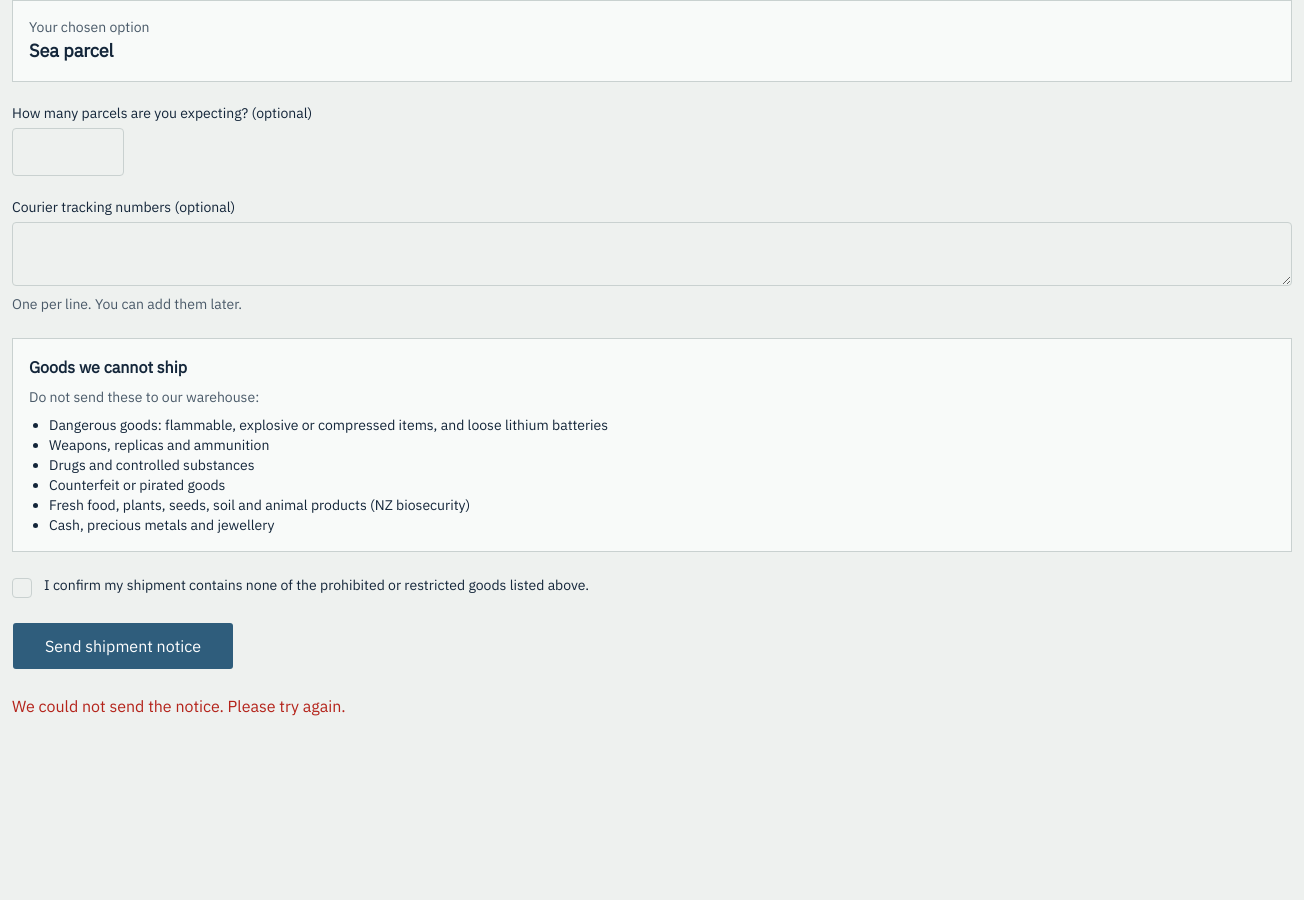
Test: PreNoticeForm › refuses a tracking number that is too short
expect the text "Your chosen option" is shown: met, box [29,17,150,37]
Type "SF1" into the text box labelled "Courier tracking numbers (optional)".
click(652, 254); type("SF1")  # box [12,222,1292,286]
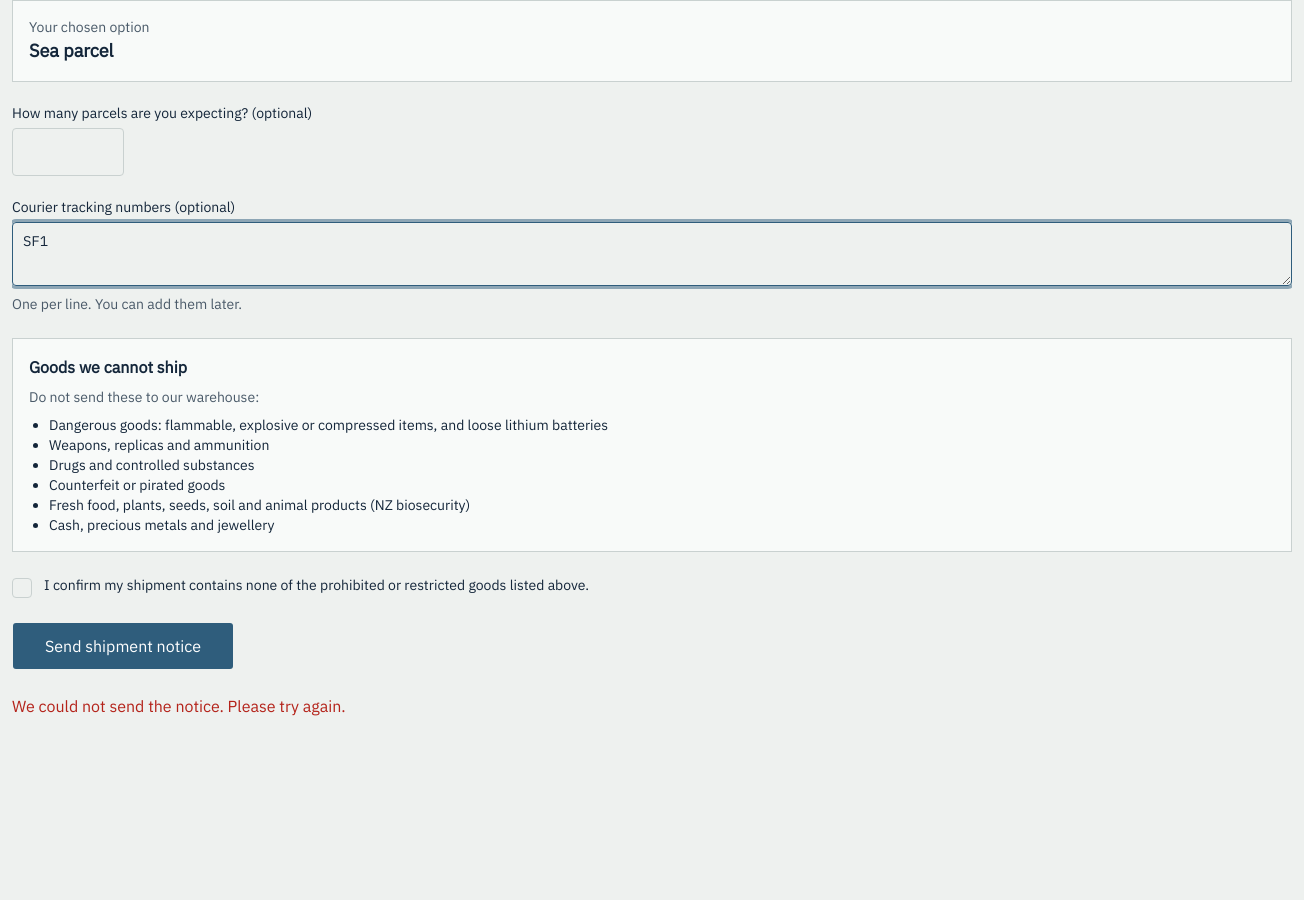
Click the checkbox named "I confirm my shipment contains none".
click(22, 588)  # box [12,578,32,598]
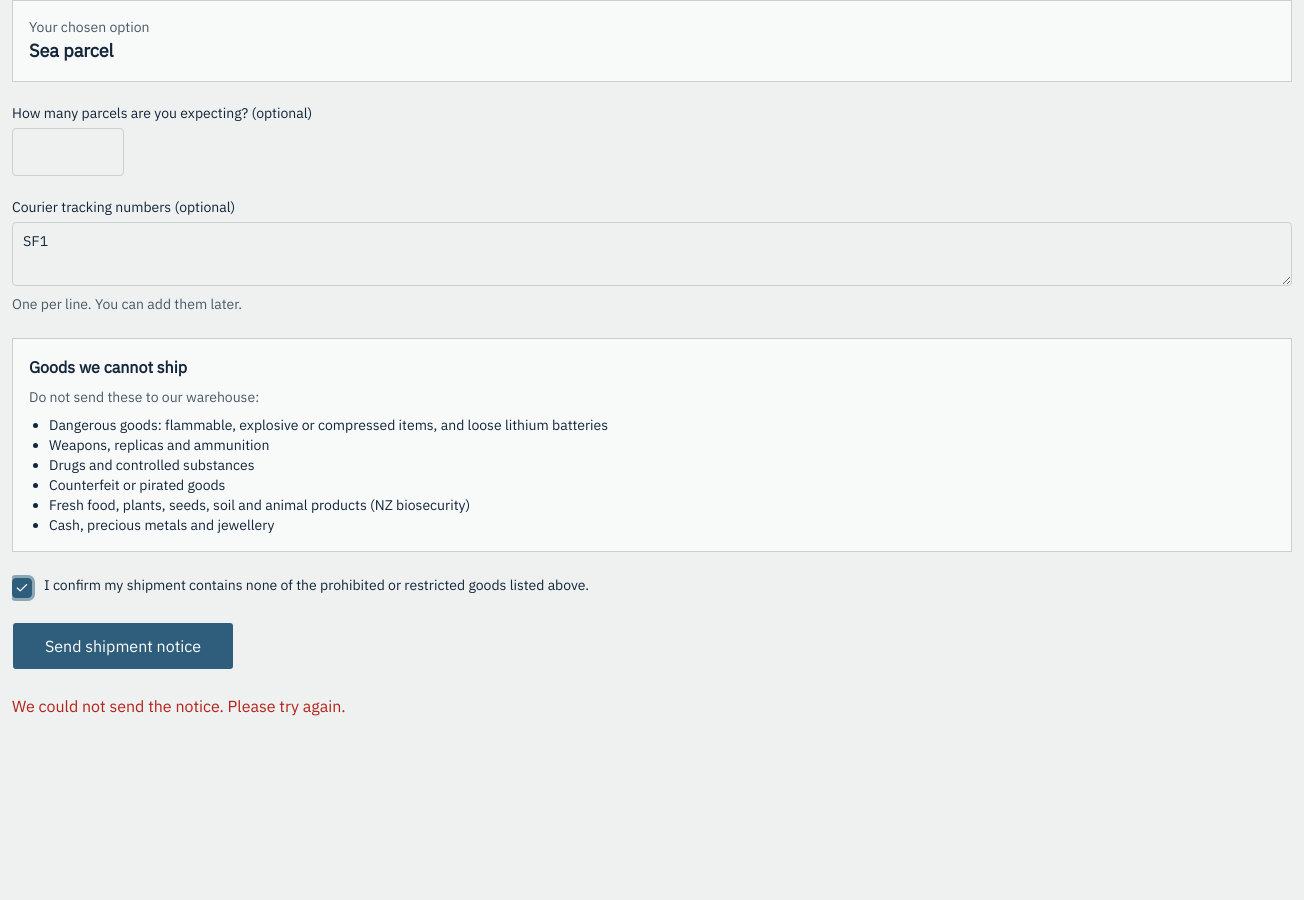
Click the button "Send shipment notice".
click(123, 646)  # box [12,622,234,670]
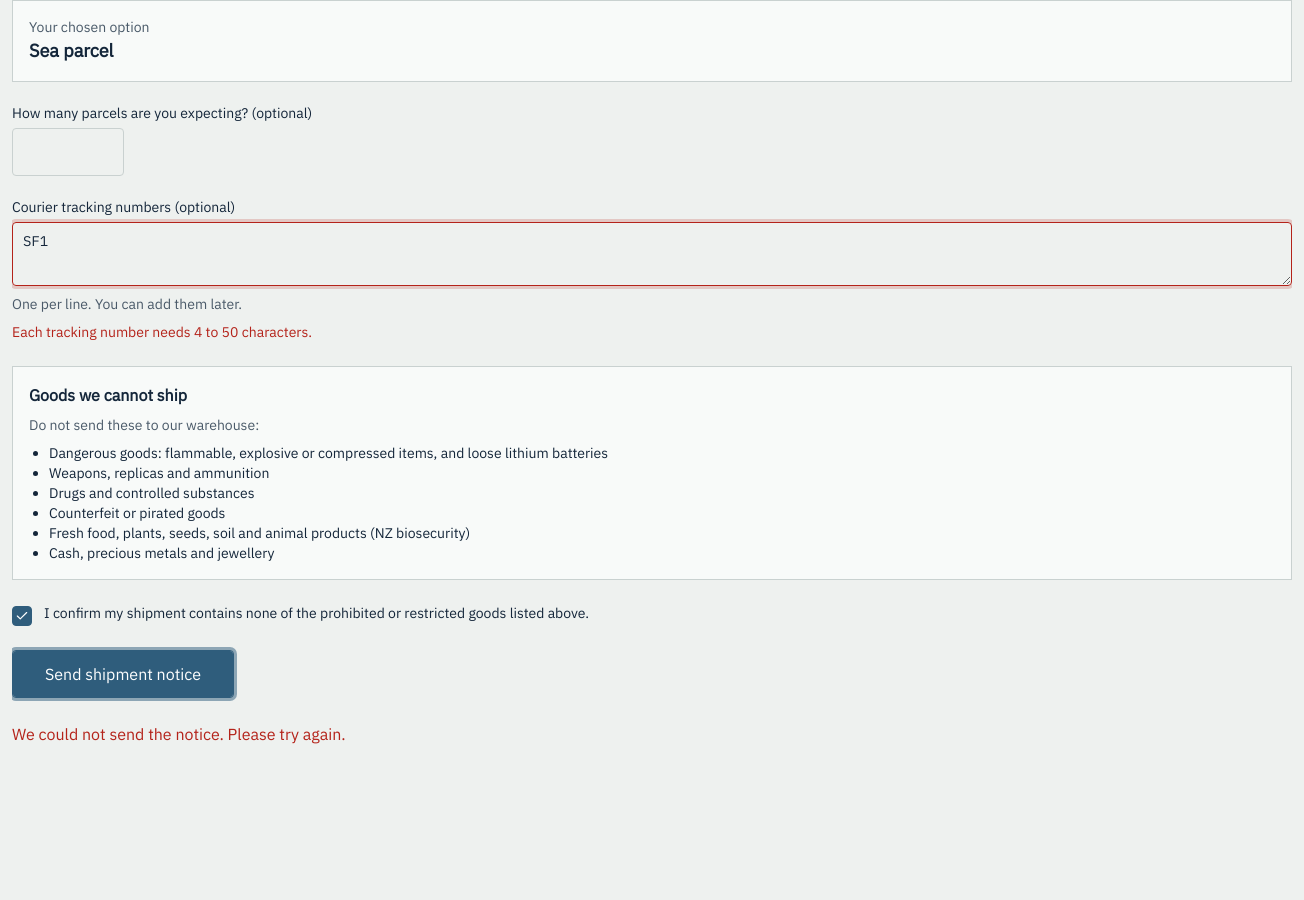
expect the text "Each tracking number needs 4 to 50 characters." is shown: met, box [12,323,312,341]
